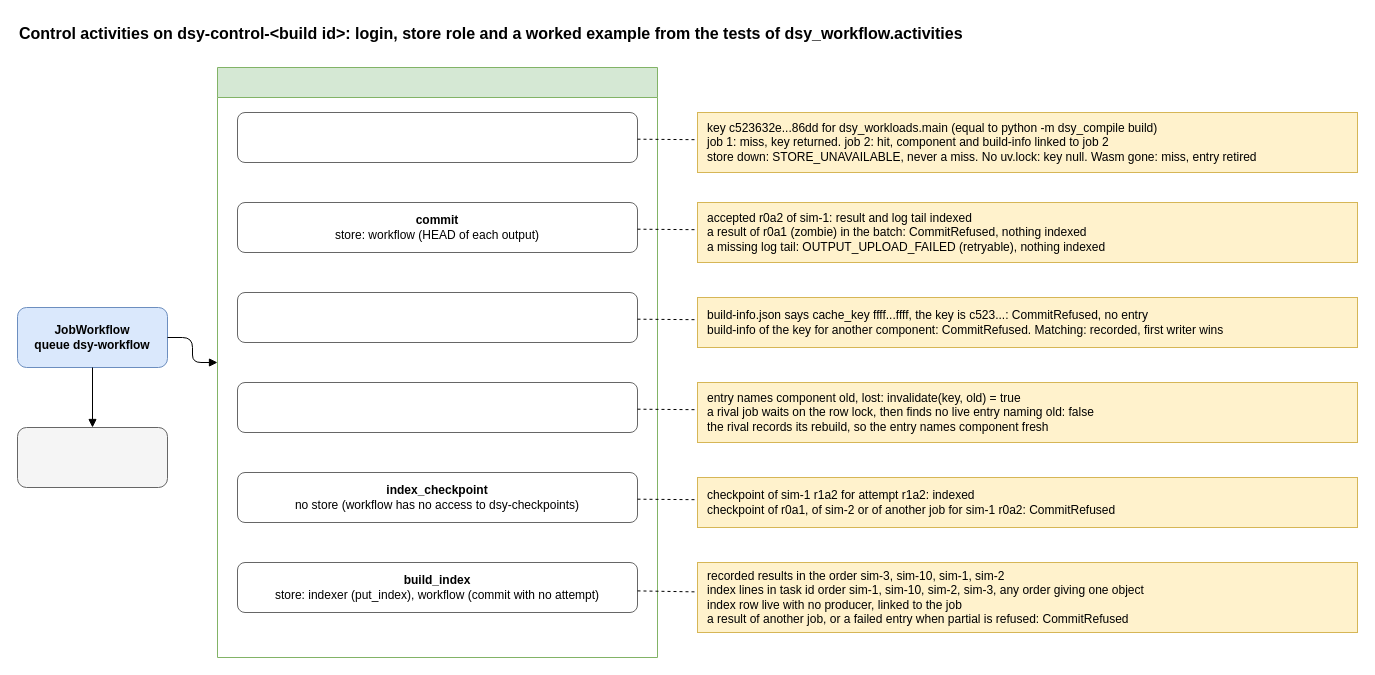
Image size: 1375x675. Some labels were removed from this diagram. The box of each missing label's shape, as (x1, y1, x2, y2) in pixels:
cache_invalidate no store, SELECT ... FOR UPDATE then retire: (236, 382, 638, 432)
cache_lookup store: workflow (reads the bundle, HEADs the wasm): (236, 112, 638, 162)
cache_record store: workflow (reads build-info.json): (236, 292, 638, 342)
Control activity worker, queue dsy-control-<build id>, login in dsy_artifacts: (216, 66, 658, 658)
emit (local activity) login in dsy_workflow no store: (16, 426, 168, 488)
